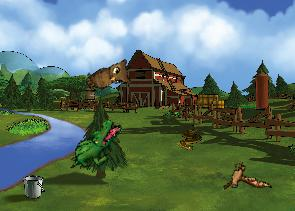crocodile: (68, 111, 123, 180)
eagle: (216, 154, 272, 203)
owl: (83, 54, 137, 103)
